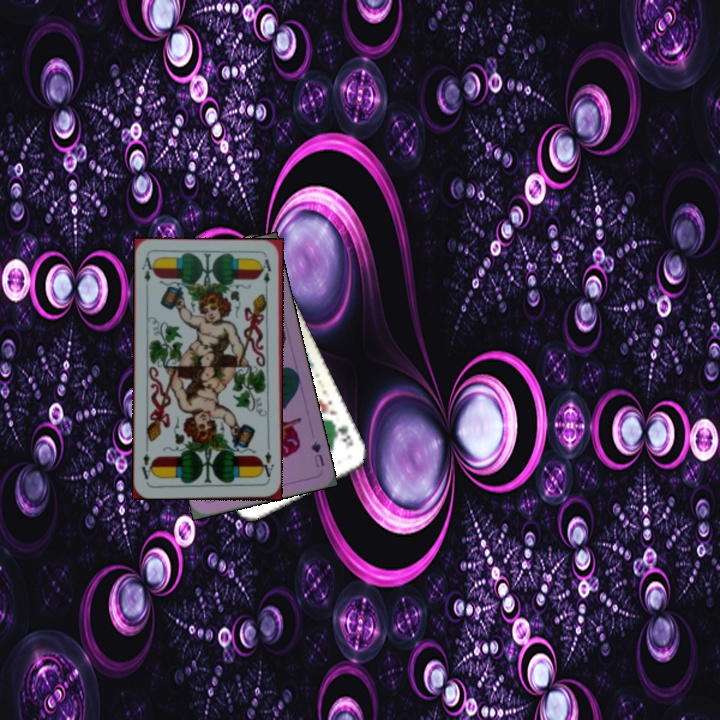EA: (138, 253, 157, 294), (257, 448, 276, 483)
GK: (329, 420, 355, 451)
GU: (307, 437, 327, 470)
